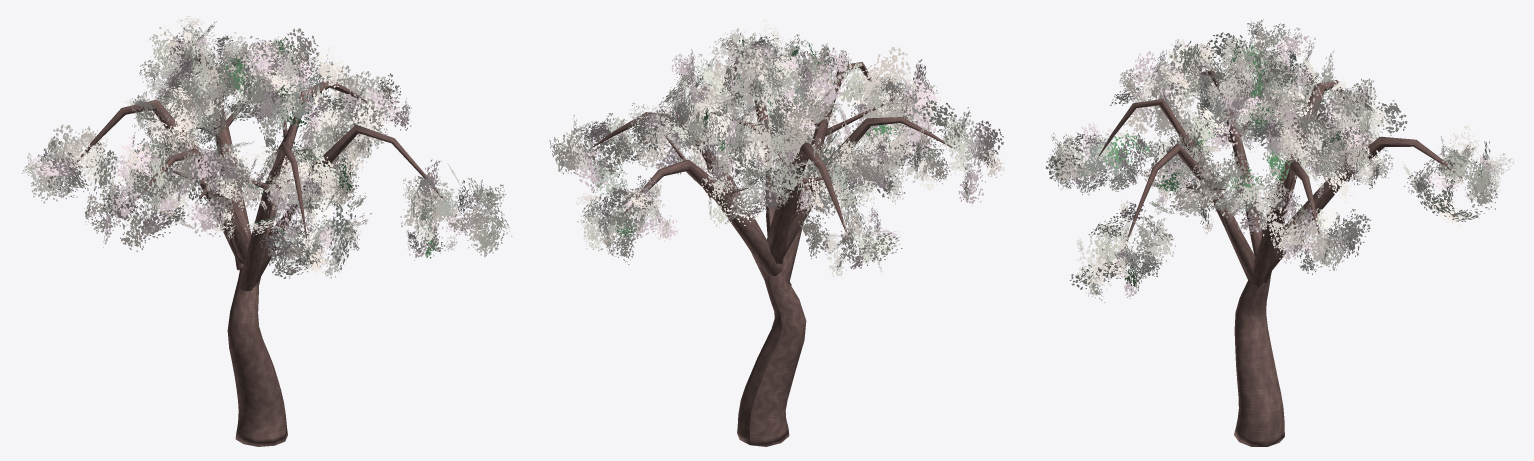
Rendered from Tree_Cherry_02_WhiteBloom_LOD1.glb.
The picture shows the model from 3 angles, left to right: view 1: azimuth 30°, elevation 25°; view 2: azimuth 150°, elevation 25°; view 3: azimuth 270°, elevation 25°; orthographic projection. The views are drawn at different scales.
Visible parts, largest first — view 1: Tree_Cherry_02_WhiteBloom_LOD1; view 2: Tree_Cherry_02_WhiteBloom_LOD1; view 3: Tree_Cherry_02_WhiteBloom_LOD1.
Boxes of the visible parts, bbox=[...] form: Tree_Cherry_02_WhiteBloom_LOD1: bbox=[22, 16, 512, 446]; Tree_Cherry_02_WhiteBloom_LOD1: bbox=[549, 19, 1004, 446]; Tree_Cherry_02_WhiteBloom_LOD1: bbox=[1046, 19, 1514, 446].
Bounding box in the file's own units: 7.59 × 7.63 × 8.43.
Materials: 2 (2 with a texture image).
